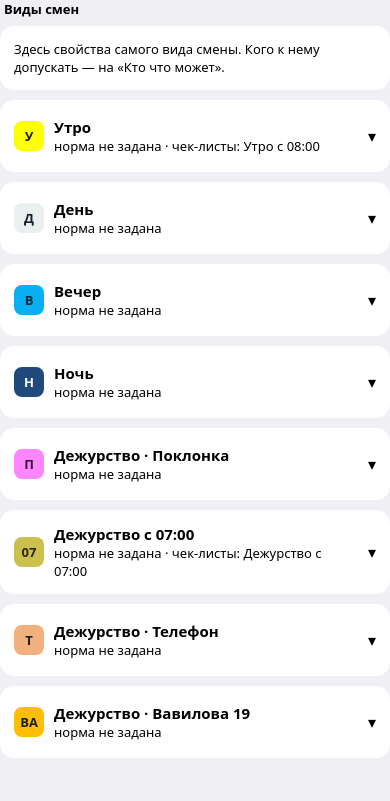
Test: отказ на «Видах смен» остаётся в своей карточке › не сохранившаяся очередь пишет причину в той карточке, где её меняли
The image size is (390, 801).
Click the button "ВА Дежурство · Вавилова 19 норма не задана ▾" at [195, 722], box [14,700,376,744]
(page scrolled)
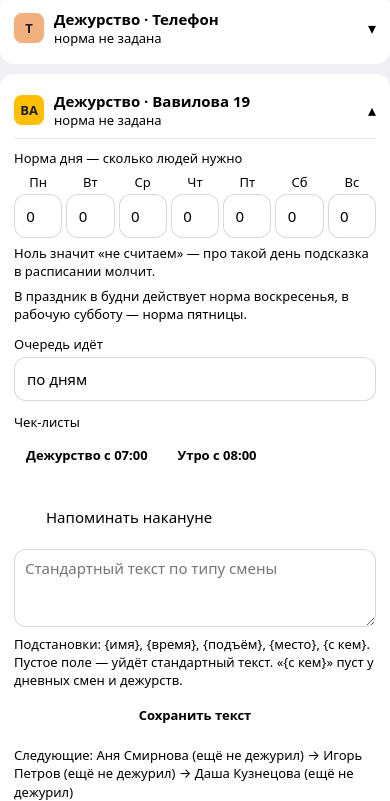
Select "по неделям" in the dropdown labelled "Очередь идёт" at [195, 379], box [14,357,376,401]
(page scrolled)
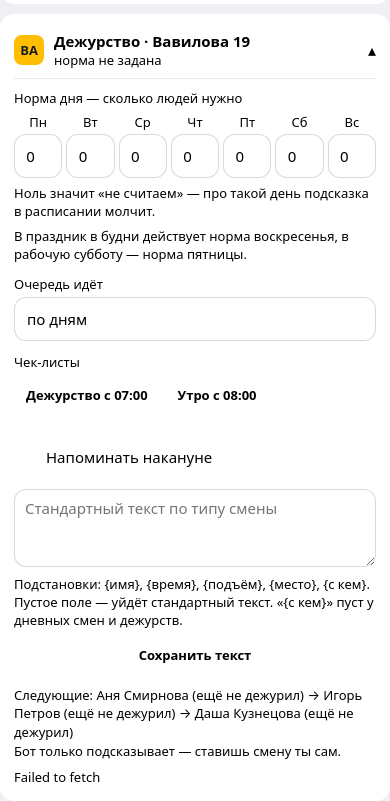
Expected: the text "Failed to fetch" is shown, [14,768,100,786]
